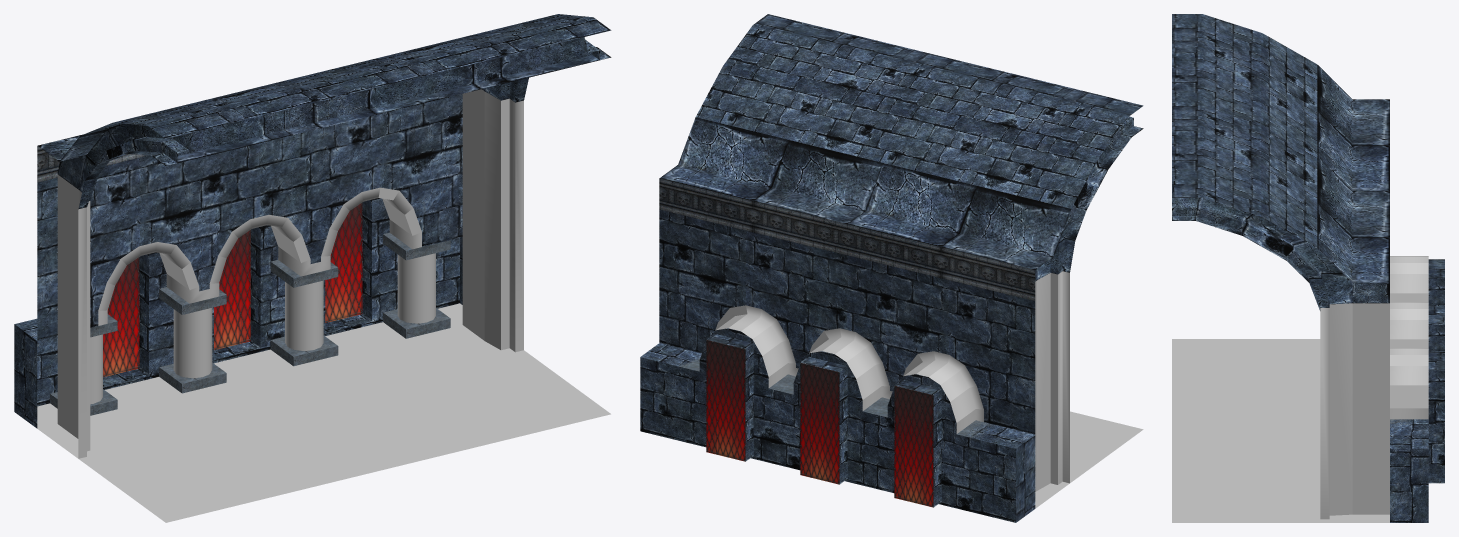
The model's file is Wall_var2.FBX.
The picture shows the model from 3 angles, left to right: view 1: azimuth 30°, elevation 25°; view 2: azimuth 150°, elevation 25°; view 3: azimuth 270°, elevation 25°; orthographic projection. The views are drawn at different scales.
Visible parts, largest first — view 1: Object01; view 2: Object01; view 3: Object01.
Boxes of the visible parts, left/top/right/bottom form: Object01: left=14, top=14, right=611, bottom=522; Object01: left=640, top=14, right=1143, bottom=522; Object01: left=1172, top=14, right=1444, bottom=522.
Size of the model in its own units: 36.16 by 29.76 by 22.65.
